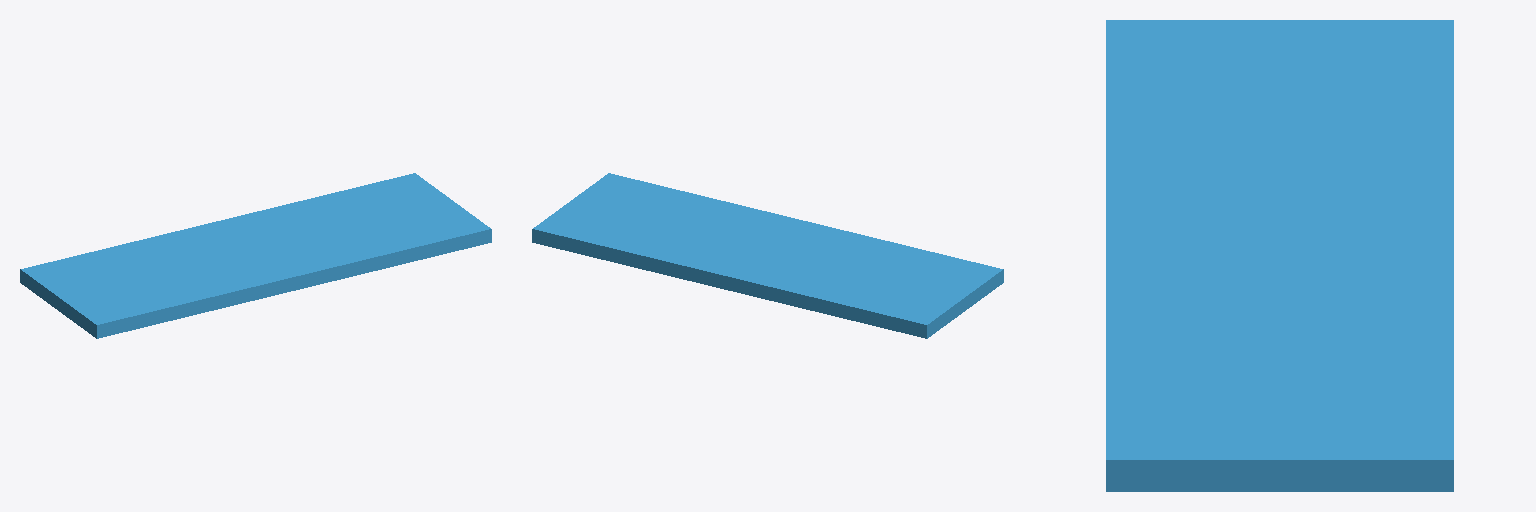
The robot description file, URDF, robot "cylinder_58":
    
    <robot name="cylinder_58">
        <link name="cylinder_58">    
            <fem>
                <origin rpy="0.0 0.0 0.0" xyz="0 0 0" />
                <density value="100" />
                <youngs value="985"/>
                <poissons value="0.3" />
                <damping value="0.0" />
                <attachDistance value="0.01" />
                <tetmesh filename="[local-path]/sim_data/Custom/Custom_mesh/multi_cylinders_official/cylinder_58.tet" />
                <scale value="0.5"/>
            </fem>
        </link>

        <link name="fix_frame">
            <visual>
                <origin xyz="0.0 0.0 10.059566266165906"/>
                <geometry>
                    <box size="0.15 0.050267420263248805 0.005"/>
                </geometry>
            </visual>
            <collision>
                <origin xyz="0.0 0.0 0.0595662661659056"/>
                <geometry>
                    <box size="0.15 0.050267420263248805 0.005"/>
                </geometry>
            </collision>
            <inertial>
                <mass value="500000"/>
                <inertia ixx="0.05" ixy="0.0" ixz="0.0" iyy="0.05" iyz="0.0" izz="0.05"/>
            </inertial>
        </link>
        
        <joint name = "attach" type = "fixed">
            <origin xyz = "0.0 0.0 0.0" rpy = "0 0 0"/>
            <parent link ="cylinder_58"/>
            <child link = "fix_frame"/>
        </joint>  




    </robot>
    

--- What the picture shows (computed from the rendered views, not written in the file) ---
3 views of the same robot in one strip: view 1: azimuth 30°, elevation 25°; view 2: azimuth 150°, elevation 25°; view 3: azimuth 270°, elevation 25° (orthographic).
Model cylinder_58 with 2 links and 1 joints (1 fixed), rooted at cylinder_58, posed all joints at 0.
Links seen in each view (by area): view 1: fix_frame; view 2: fix_frame; view 3: fix_frame.
Boxes of the visible links, left/top/right/bottom form: fix_frame: left=20, top=173, right=491, bottom=338; fix_frame: left=532, top=173, right=1003, bottom=338; fix_frame: left=1106, top=20, right=1453, bottom=491.
Size in the robot's own frame: 0.15 by 0.0503 by 0.005 metres.
Geometry: primitives only (box / cylinder / sphere), no mesh files.